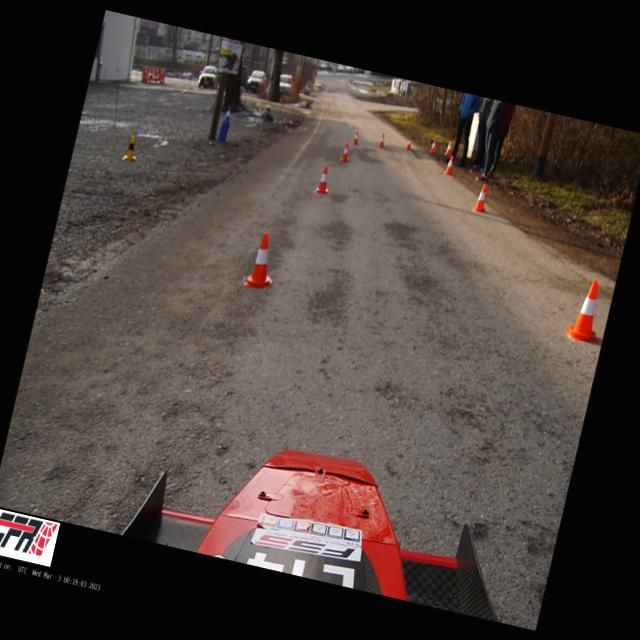blue_cone: (222, 105, 233, 123)
orange_cone: (562, 276, 611, 344), (243, 230, 282, 290), (314, 164, 332, 194), (473, 182, 490, 212), (339, 142, 352, 162), (444, 154, 456, 174), (444, 140, 454, 155), (378, 133, 386, 148), (352, 130, 360, 144), (405, 136, 413, 150), (430, 138, 438, 152)
yellow_cone: (122, 134, 141, 162)
